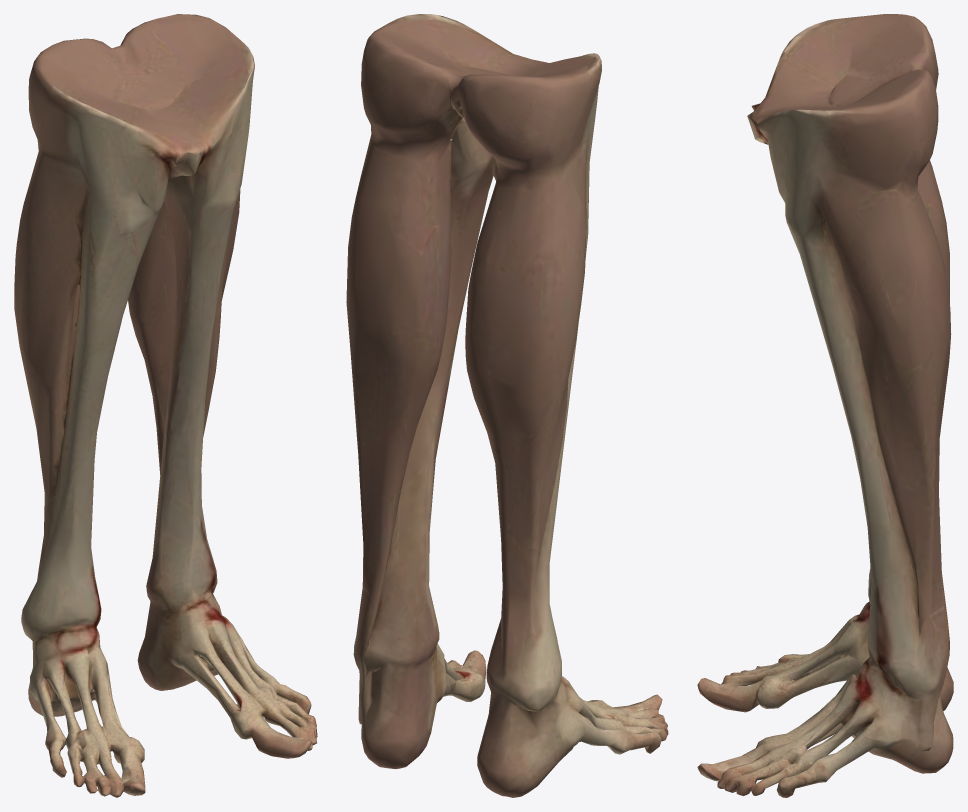
Rendered from legbones.glb.
The picture shows the model from 3 angles, left to right: view 1: azimuth 30°, elevation 25°; view 2: azimuth 150°, elevation 25°; view 3: azimuth 270°, elevation 25°; orthographic projection. The views are drawn at different scales.
Parts seen in each view (by area): view 1: Mesh_0; view 2: Mesh_0; view 3: Mesh_0.
Boxes of the visible parts, box(x1,y1,x2,y2) form: Mesh_0: box(14, 14, 317, 797); Mesh_0: box(346, 14, 668, 797); Mesh_0: box(697, 14, 953, 797).
Bounding box in the file's own units: 0.7557 × 1.9 × 0.637.
1 material, 1 textured.
